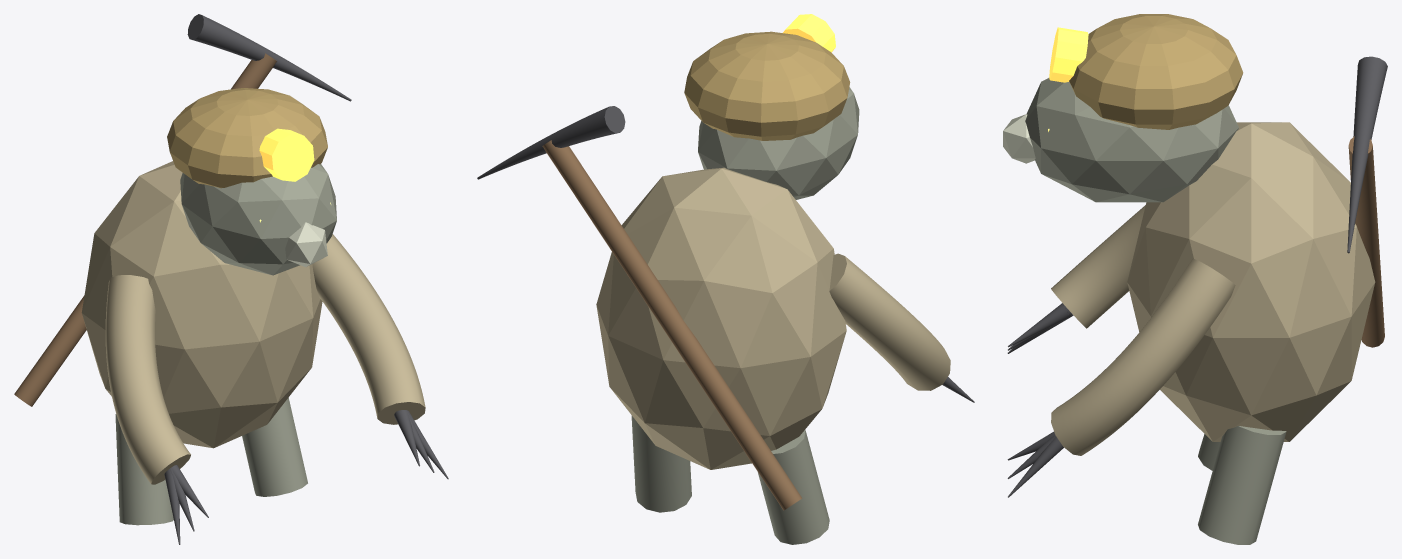
File: tunneler.glb
3 views of the same model, side by side, from view 1: azimuth 30°, elevation 25°; view 2: azimuth 150°, elevation 25°; view 3: azimuth 270°, elevation 25° (orthographic). The views are drawn at different scales.
Visible parts, largest first — view 1: tunneler; view 2: tunneler; view 3: tunneler.
Boxes of the visible parts, left/top/right/bottom form: tunneler: left=14, top=14, right=448, bottom=544; tunneler: left=477, top=14, right=974, bottom=544; tunneler: left=1003, top=14, right=1387, bottom=544.
Size of the model in its own units: 0.6975 by 0.8676 by 0.633.
